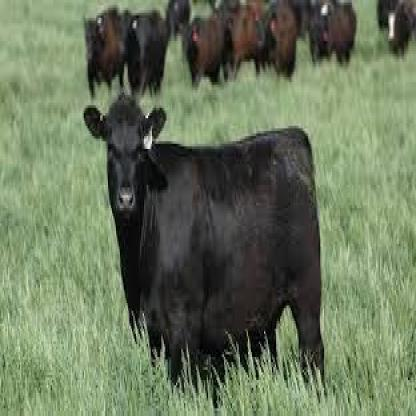cow: (83, 94, 325, 396), (178, 14, 233, 91), (124, 8, 171, 92), (82, 3, 123, 98), (310, 0, 358, 64), (384, 0, 416, 62), (165, 0, 191, 41)
